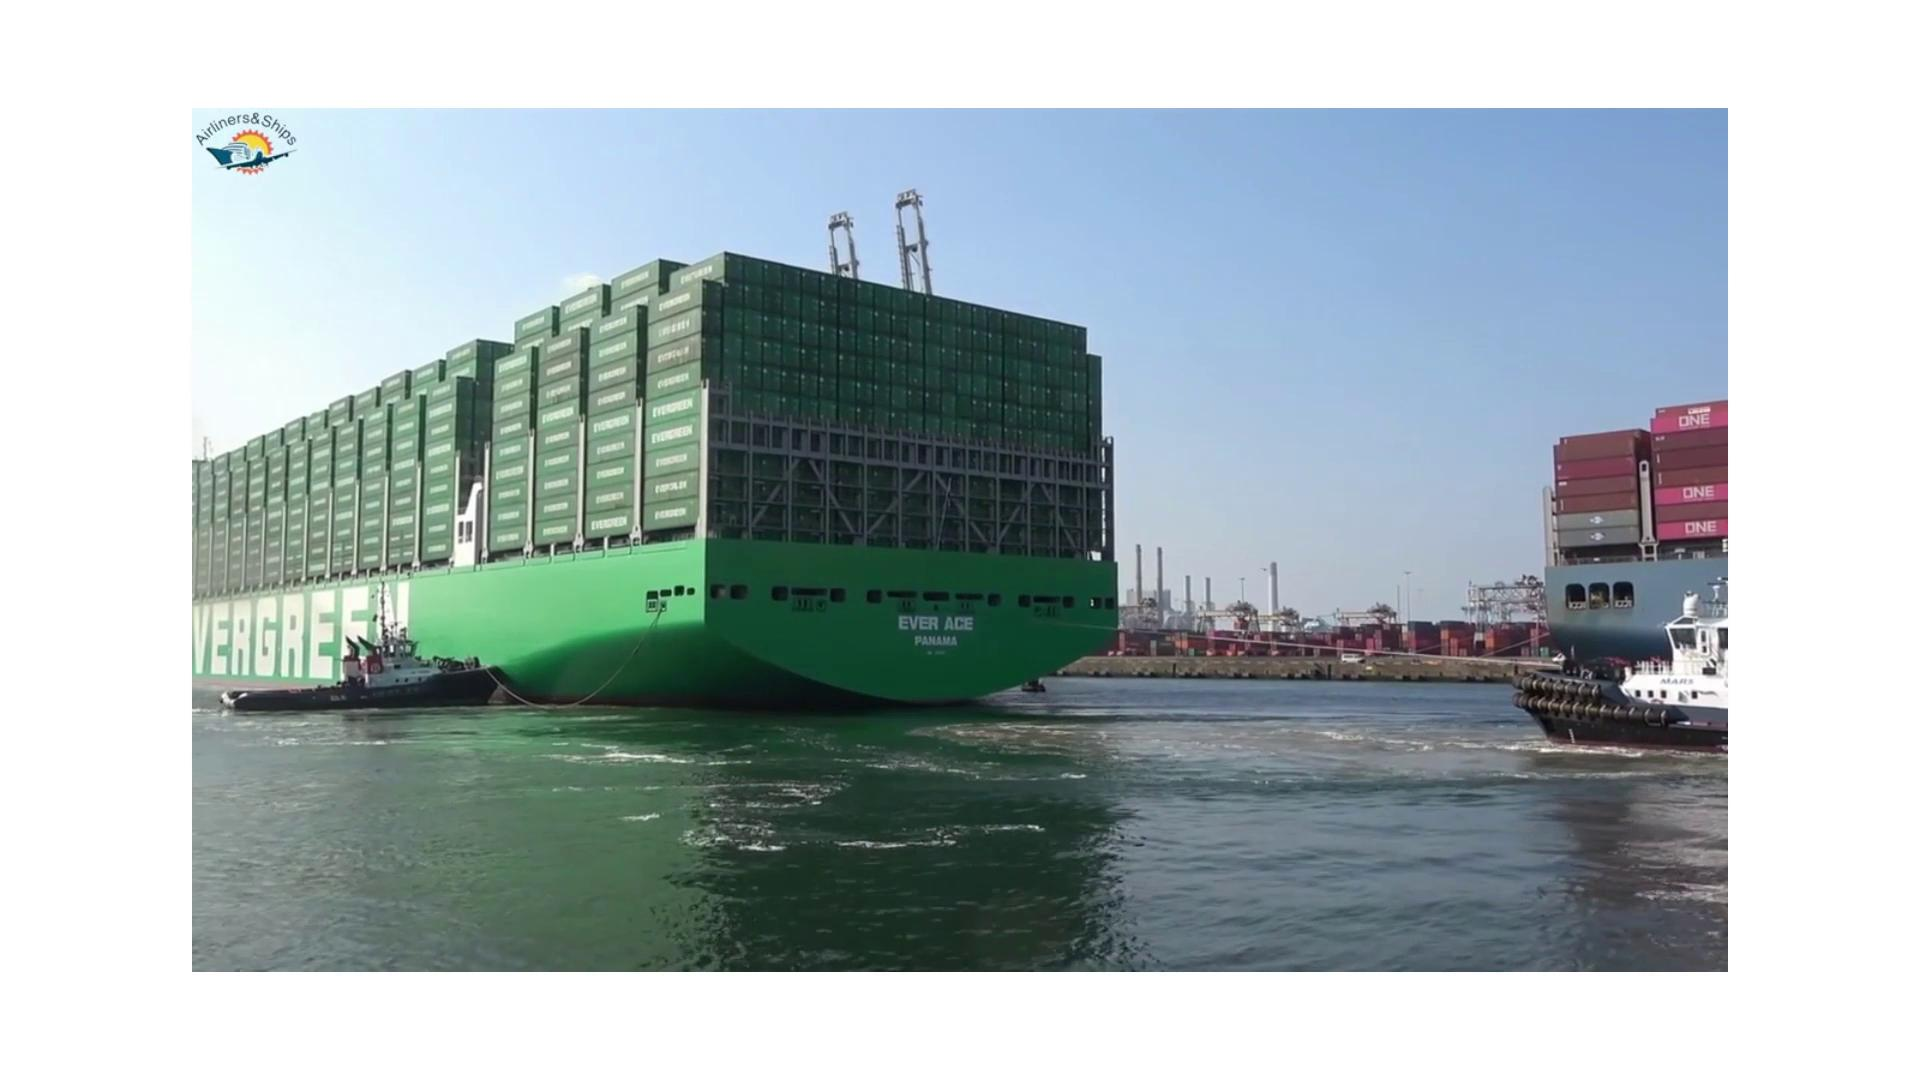OCR: (194, 572, 426, 705), (877, 597, 997, 683)
